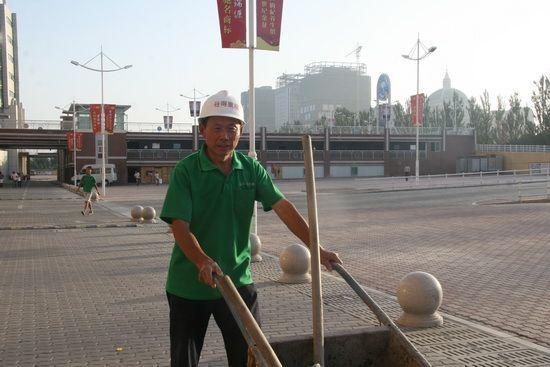helmet: (196, 91, 248, 128)
